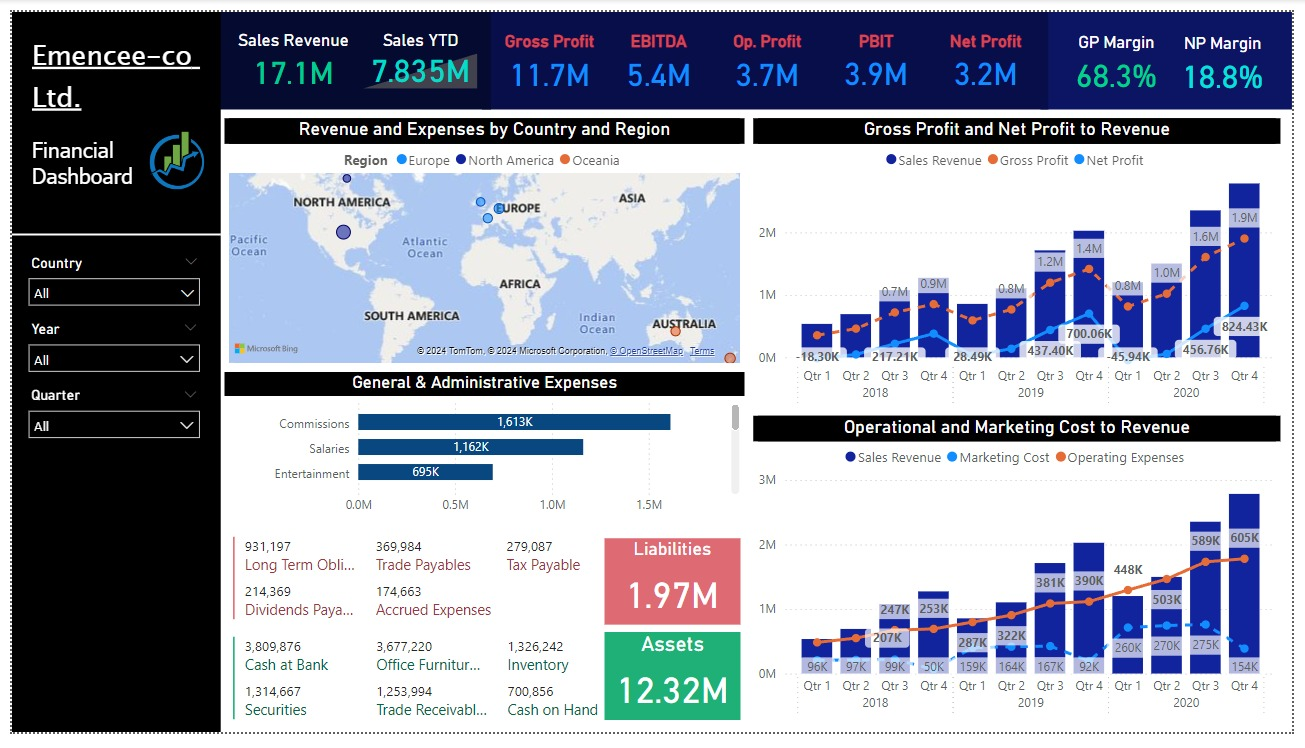

The page's visual inventory and layout, read from the dashboard file:
{"tool":"powerbi","page":{"name":"Main Dashboard","canvas":[1280,720],"ordinal":0},"visuals":[{"type":"shape","box":[1028.8,0,251.2,97.5],"z":0},{"type":"shape","box":[470,0,566.2,97.5],"z":1000},{"type":"shape","box":[201.2,0,277.5,97.5],"z":2000},{"type":"shape","box":[0,0,208.7,720.2],"z":3000},{"type":"slicer","fields":{"Values":["Territory.Country"]},"box":[6.3,237.8,191.8,66.4],"z":4000},{"type":"kpi","title":"Sales YTD","fields":{"TrendLine":["Calendar.Date.Variation.Date Hierarchy.Year"],"Indicator":["GL.Sales Revenue"]},"box":[345.7,17.9,124.3,64.3],"z":5000},{"type":"multiRowCard","fields":{"Values":["GL.Long Term Obligations","GL.Trade Payables","GL.Tax Payable","GL.Dividends Payable","GL.Accrued Expenses"]},"box":[216.2,520,414.1,99.6],"z":6000,"group":"g1"},{"type":"lineStackedColumnComboChart","title":"Operational and Marketing Cost to Revenue","fields":{"Category":["Calendar.Date.Variation.Date Hierarchy.Year","Calendar.Date.Variation.Date Hierarchy.Quarter","Calendar.Date.Variation.Date Hierarchy.Month","Calendar.Date.Variation.Date Hierarchy.Day"],"Y":["GL.Sales_FTP"],"Y2":["GL.Marketing_Cost","GL.Operating_Expenses"]},"box":[741.2,403.8,527.5,308.8],"z":6000},{"type":"card","title":"Liabilities","fields":{"Values":["GL.Account_Payables"]},"box":[592.8,525.8,135.6,86.6],"z":7000,"group":"g1"},{"type":"clusteredBarChart","title":"General & Administrative Expenses","fields":{"Category":["Chart of Accounts.SubAccount"],"Y":["GL.General_Administrative_Expenses"]},"box":[212.5,360,520,151.2],"z":7000},{"type":"card","title":"Sales Revenue","fields":{"Values":["GL.Sales Revenue"]},"box":[218.6,17.9,125,64.3],"z":8000},{"type":"multiRowCard","fields":{"Values":["GL.Cash at Bank","GL.Office Furniture & Equity","GL.Inventory","GL.Securities","GL.Trade Receivable","GL.Cash on Hand"]},"box":[216.2,619.8,415.5,101],"z":8000,"group":"g1"},{"type":"card","title":"Gross Profit","fields":{"Values":["GL.Gross Profit"]},"box":[483.5,18.2,107.6,64.1],"z":9000},{"type":"card","title":"Assets","fields":{"Values":["GL.Account_Receivables"]},"box":[592.7,620.1,135.6,88],"z":9000,"group":"g1"},{"type":"card","title":"EBITDA","fields":{"Values":["GL.EBITDA"]},"box":[592.5,18.1,108.1,64.4],"z":10000},{"type":"card","title":"Op. Profit","fields":{"Values":["GL.Operating Profit"]},"box":[701.2,18.1,108.1,64.4],"z":11000},{"type":"card","title":"PBIT","fields":{"Values":["GL.PBIT"]},"box":[810,18.1,108.1,63.8],"z":12000},{"type":"card","title":"Net Profit","fields":{"Values":["GL.Net Profit"]},"box":[918.8,18.1,110,63.8],"z":13000},{"type":"map","title":"Revenue and Expenses by Country and Region","fields":{"Category":["Territory.Country"],"Series":["Territory.Region"],"Size":["GL.Sales Revenue"]},"box":[212.5,106.2,520,250],"z":14000},{"type":"slicer","fields":{"Values":["Calendar.Year"]},"box":[5.6,304.2,191.2,66.2],"z":15000},{"type":"slicer","fields":{"Values":["Calendar.Quarter"]},"box":[5.6,370.5,191.2,66.2],"z":16000},{"type":"lineStackedColumnComboChart","title":"Gross Profit and Net Profit to Revenue","fields":{"Category":["Calendar.Date.Variation.Date Hierarchy.Year","Calendar.Date.Variation.Date Hierarchy.Quarter","Calendar.Date.Variation.Date Hierarchy.Month","Calendar.Date.Variation.Date Hierarchy.Day"],"Y":["GL.Sales Revenue"],"Y2":["GL.Gross Profit","GL.Net Profit"]},"box":[741.2,106.2,527.5,296.2],"z":17000},{"type":"group","id":"g1","title":"Group 1","box":[216.2,520,512.5,200],"z":18000},{"type":"card","title":"GP Margin","fields":{"Values":["GL.Gross Profit Margin"]},"box":[1051.2,19.6,106.2,63.8],"z":19000},{"type":"card","title":"NP Margin","fields":{"Values":["GL.Net Profit Margin"]},"box":[1157.5,20.9,106.2,63.8],"z":20000},{"type":"textbox","box":[15,18.8,186.2,188.8],"z":21000},{"type":"shape","box":[0,207.5,208.8,30],"z":23000},{"type":"image","box":[123.8,102.5,82.5,91.2],"z":23001}]}

Visuals, with their boxes in screenshot pixels (x1, y1, x2, y2), scaled from the page's 1280x720 canvas onto the 1305x748 screenshot:
shape: bbox=(1049, 0, 1304, 101)
shape: bbox=(479, 0, 1056, 101)
shape: bbox=(205, 0, 488, 101)
shape: bbox=(0, 0, 213, 747)
slicer - Territory.Country: bbox=(6, 247, 202, 316)
"Sales YTD" kpi: bbox=(352, 19, 479, 85)
multiRowCard - GL.Long Term Obligations x GL.Trade Payables: bbox=(220, 540, 643, 644)
"Operational and Marketing Cost to Revenue" lineStackedColumnComboChart: bbox=(756, 420, 1293, 740)
"Liabilities" card: bbox=(604, 546, 743, 636)
"General & Administrative Expenses" clusteredBarChart: bbox=(217, 374, 747, 531)
"Sales Revenue" card: bbox=(223, 19, 350, 85)
multiRowCard - GL.Cash at Bank x GL.Office Furniture & Equity: bbox=(220, 644, 644, 747)
"Gross Profit" card: bbox=(493, 19, 603, 86)
"Assets" card: bbox=(604, 644, 743, 736)
"EBITDA" card: bbox=(604, 19, 714, 86)
"Op. Profit" card: bbox=(715, 19, 825, 86)
"PBIT" card: bbox=(826, 19, 936, 85)
"Net Profit" card: bbox=(937, 19, 1049, 85)
"Revenue and Expenses by Country and Region" map: bbox=(217, 110, 747, 370)
slicer - Calendar.Year: bbox=(6, 316, 201, 385)
slicer - Calendar.Quarter: bbox=(6, 385, 201, 454)
"Gross Profit and Net Profit to Revenue" lineStackedColumnComboChart: bbox=(756, 110, 1293, 418)
"Group 1" group: bbox=(220, 540, 743, 747)
"GP Margin" card: bbox=(1072, 20, 1180, 87)
"NP Margin" card: bbox=(1180, 22, 1288, 88)
textbox: bbox=(15, 20, 205, 216)
shape: bbox=(0, 216, 213, 247)
image: bbox=(126, 106, 210, 201)
